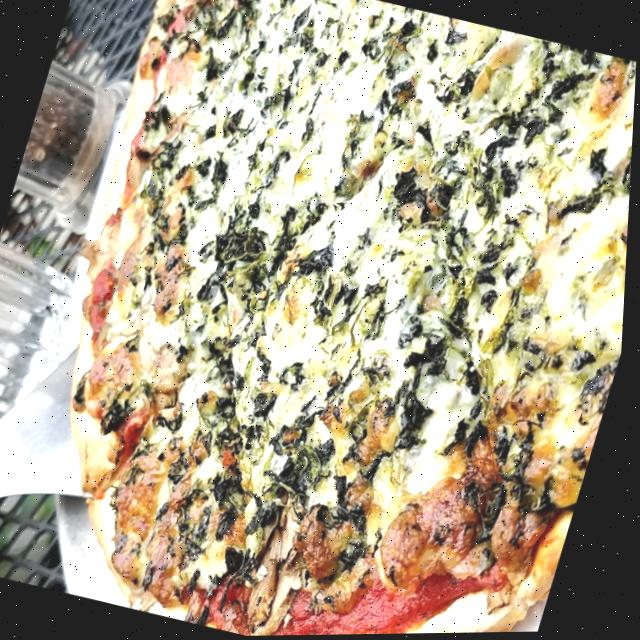pizza: (0, 0, 640, 640)
